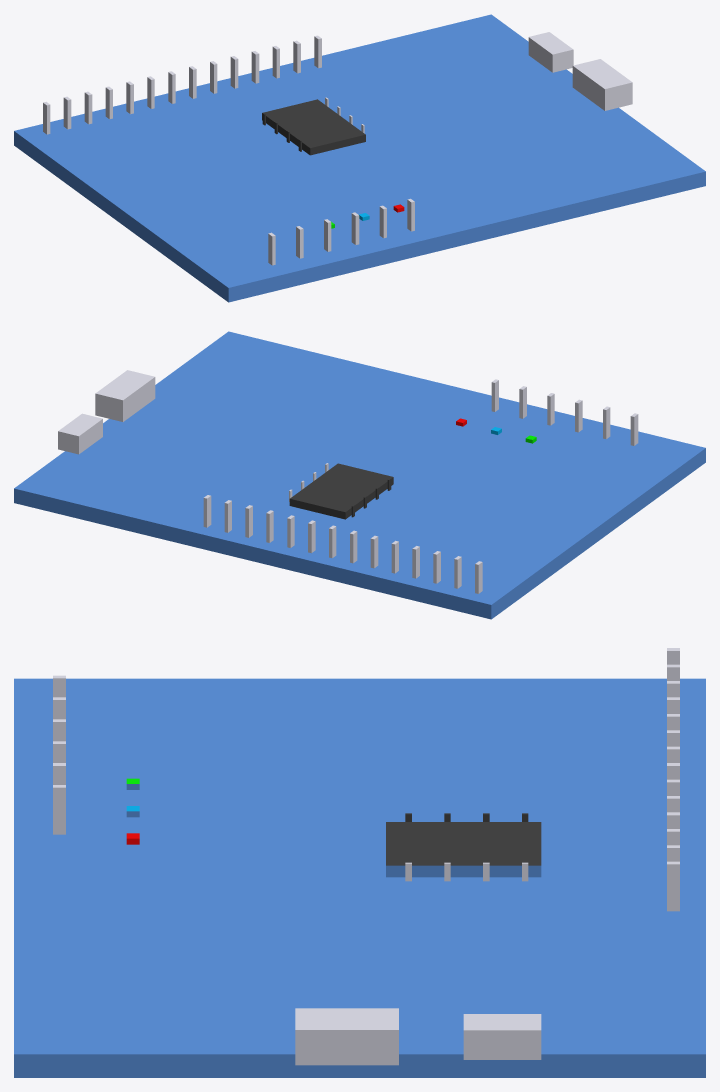
File: arduino.glb
3 views of the same model, one above another, from view 1: azimuth 30°, elevation 25°; view 2: azimuth 150°, elevation 25°; view 3: azimuth 270°, elevation 25° (orthographic). The views are drawn at different scales.
Parts seen in each view (by area): view 1: Arduino_Uno; view 2: Arduino_Uno; view 3: Arduino_Uno.
Part boxes in pixels (x1,y1,x2,y2): Arduino_Uno: [14, 14, 705, 302]; Arduino_Uno: [14, 331, 705, 619]; Arduino_Uno: [14, 648, 705, 1077].
Bounding box in the file's own units: 2.77 × 0.2351 × 2.09.
